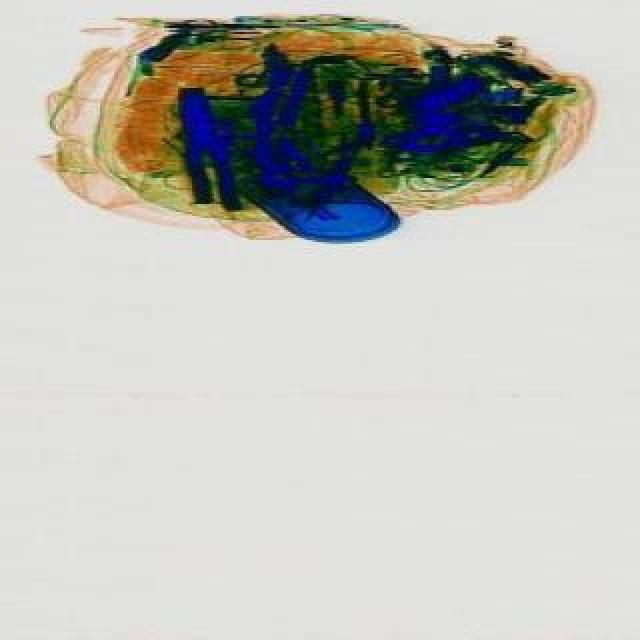wrench: (162, 82, 234, 218)
